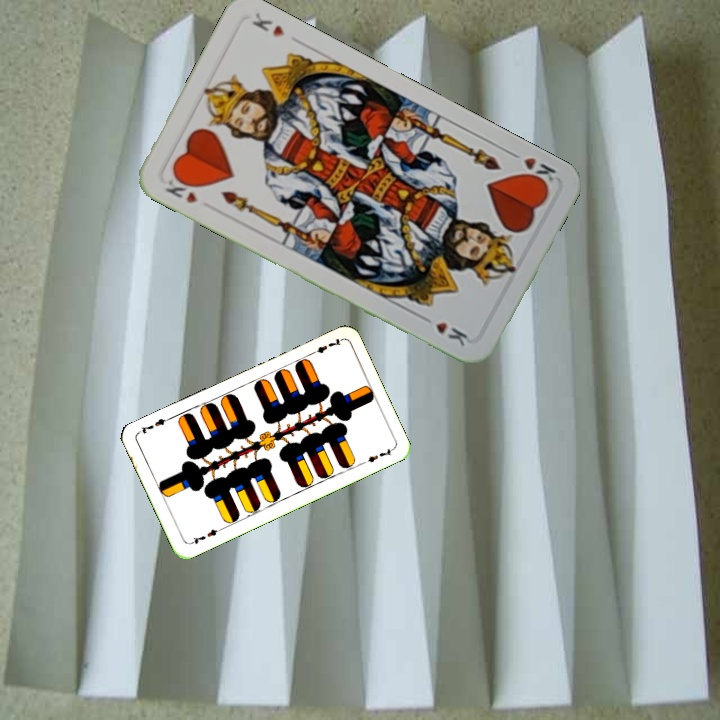E7: (306, 334, 344, 358), (186, 524, 224, 547)
HK: (516, 153, 558, 190), (161, 171, 201, 206)
